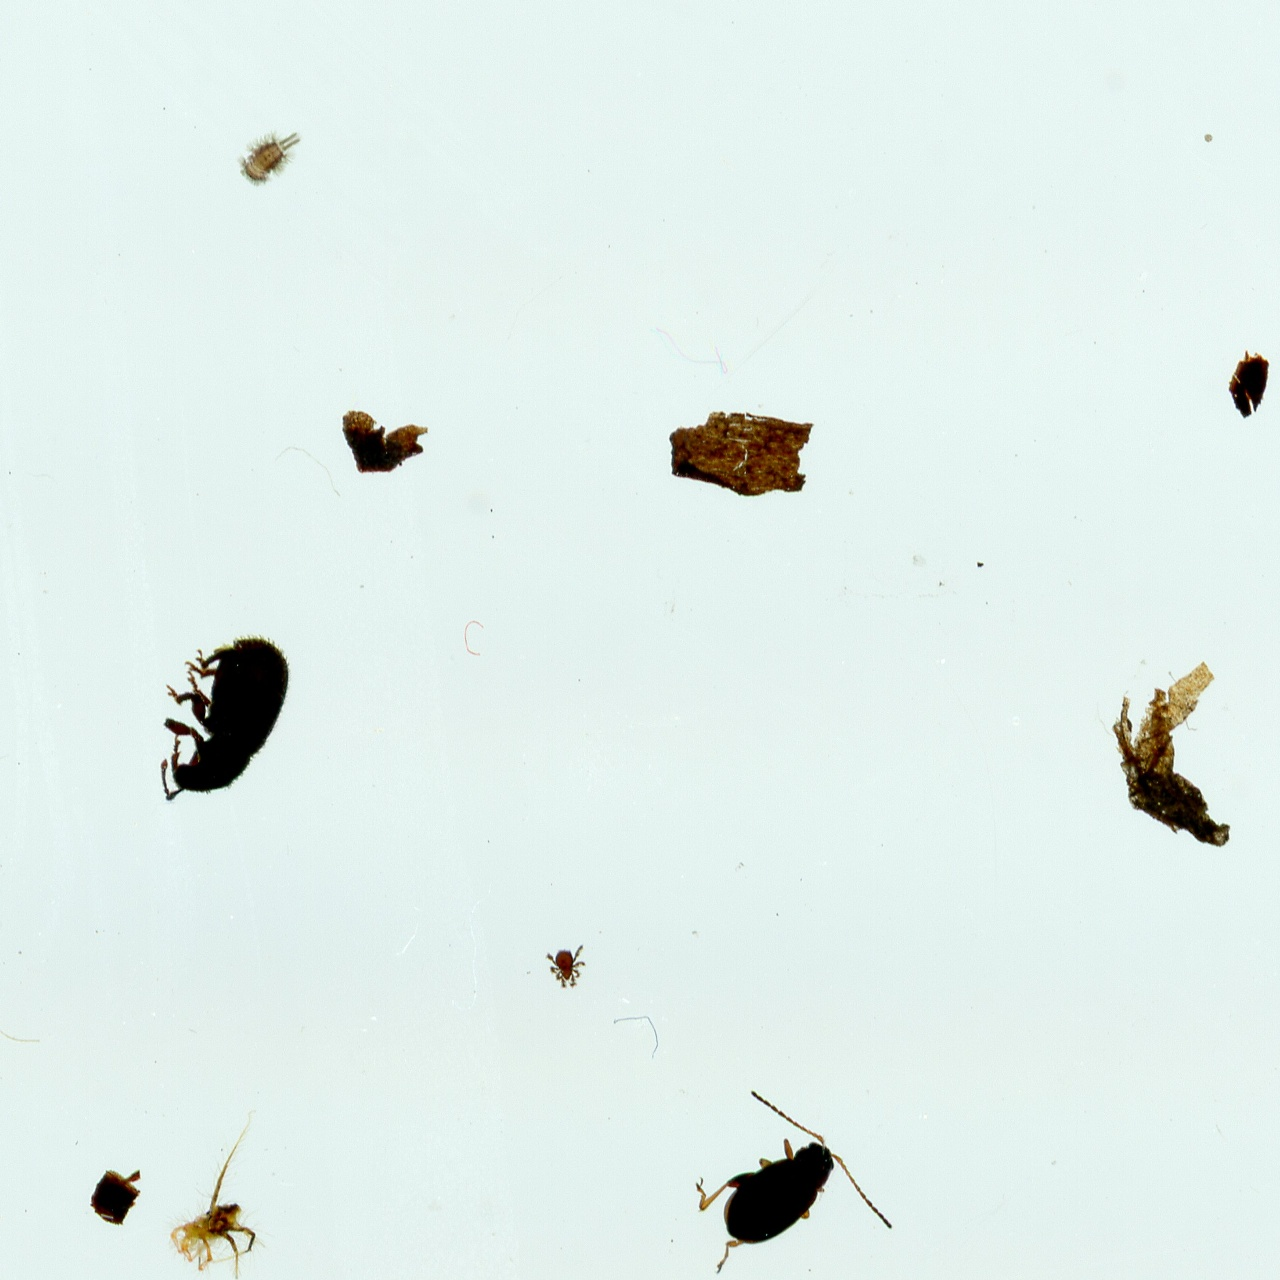arthropod: (633, 1061, 908, 1280), (115, 603, 314, 838), (160, 1107, 281, 1280), (233, 126, 305, 195), (542, 940, 591, 993)
